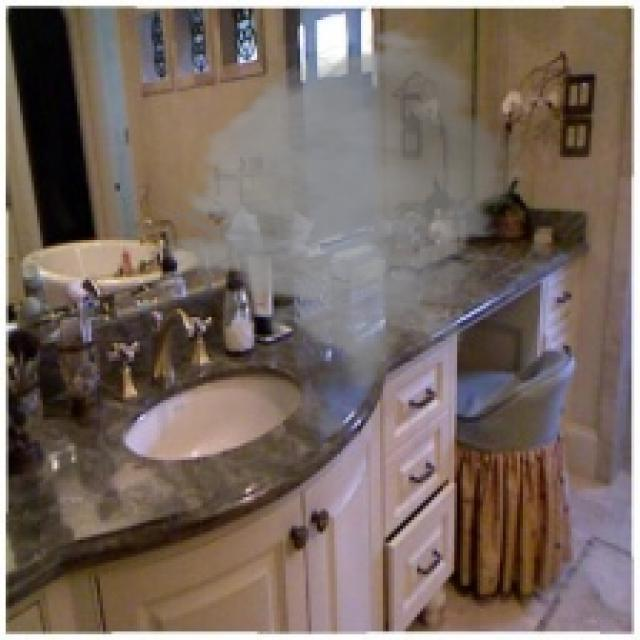Smoke: (148, 26, 560, 392)
